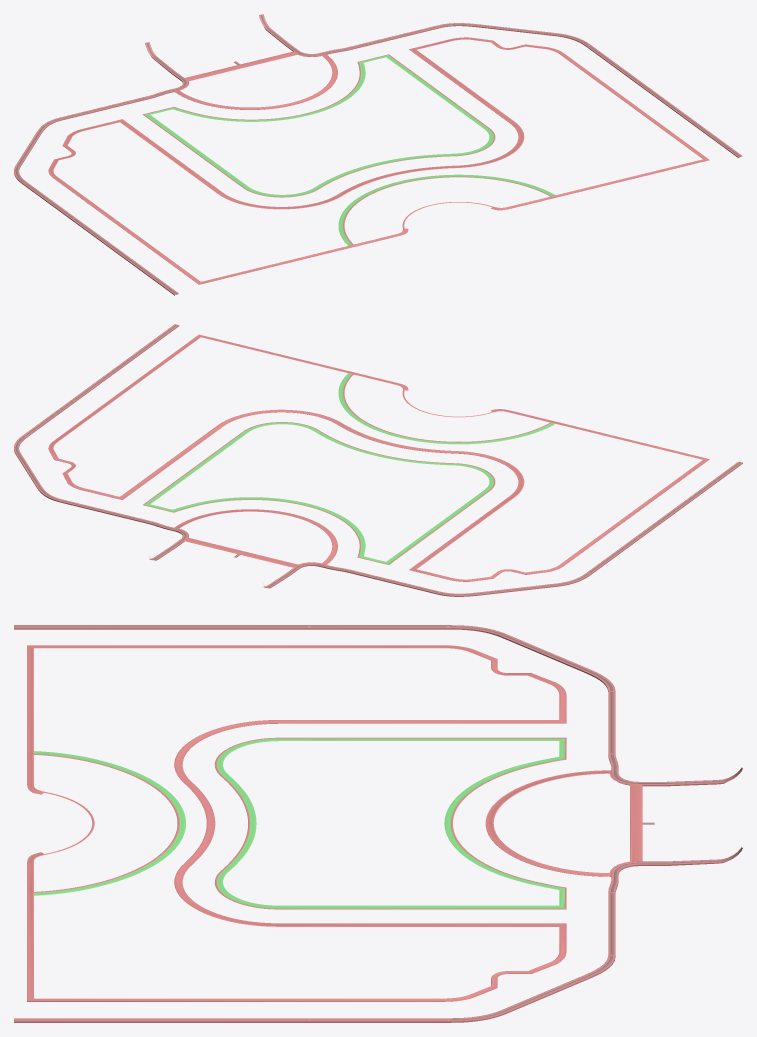
The model's file is CHN_Field_Trim.gltf.
The picture shows the model from 3 angles, top to bottom: view 1: azimuth 30°, elevation 25°; view 2: azimuth 150°, elevation 25°; view 3: azimuth 270°, elevation 25°; orthographic projection. The views are drawn at different scales.
Visible parts, largest first — view 1: CHN_Field_Trim; view 2: CHN_Field_Trim; view 3: CHN_Field_Trim.
Boxes of the visible parts, x1,y1,x2,y2 form: CHN_Field_Trim: (14,14,742,295); CHN_Field_Trim: (14,324,742,596); CHN_Field_Trim: (14,625,742,1022).
Size of the model in its own units: 76.8 by 1.51 by 59.72.
